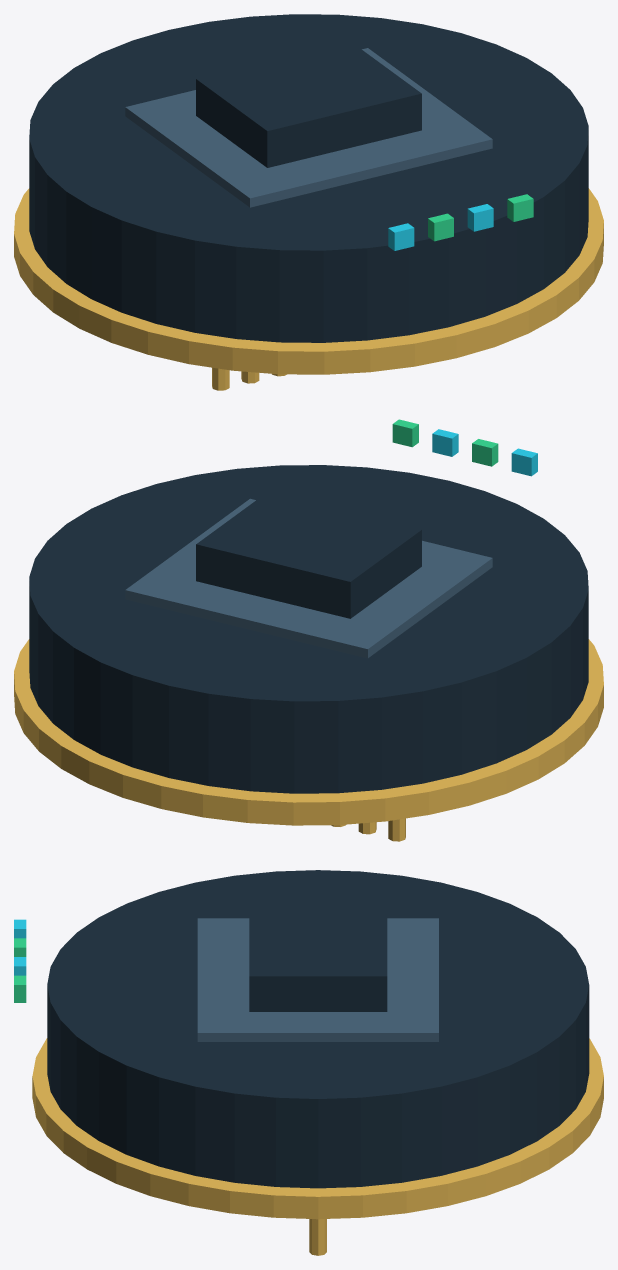
The model's file is 39_L79_ControlledContactInitiationHead.fbx.
The picture shows the model from 3 angles, top to bottom: view 1: azimuth 30°, elevation 25°; view 2: azimuth 150°, elevation 25°; view 3: azimuth 270°, elevation 25°; orthographic projection. The views are drawn at different scales.
Visible parts, largest first — view 1: ControlledContactInitiationHead, ControlledContactInitiationHead_Part_0022, ControlledContactInitiationHead_Part_0014; view 2: ControlledContactInitiationHead, ControlledContactInitiationHead_Part_0022, ControlledContactInitiationHead_Part_0014; view 3: ControlledContactInitiationHead, ControlledContactInitiationHead_Part_0014, ControlledContactInitiationHead_Part_0022, ControlledContactInitiationHead_Part_0021.
Part boxes in pixels (left/top/right/bottom): ControlledContactInitiationHead: left=14, top=14, right=603, bottom=374; ControlledContactInitiationHead_Part_0022: left=196, top=41, right=421, bottom=167; ControlledContactInitiationHead_Part_0014: left=125, top=48, right=492, bottom=207; ControlledContactInitiationHead: left=14, top=419, right=603, bottom=825; ControlledContactInitiationHead_Part_0022: left=196, top=492, right=421, bottom=618; ControlledContactInitiationHead_Part_0014: left=125, top=498, right=492, bottom=658; ControlledContactInitiationHead: left=14, top=870, right=603, bottom=1219; ControlledContactInitiationHead_Part_0014: left=197, top=918, right=438, bottom=1041; ControlledContactInitiationHead_Part_0022: left=249, top=903, right=387, bottom=1011; ControlledContactInitiationHead_Part_0021: left=309, top=1219, right=326, bottom=1255.
Bounding box in the file's own units: 116 × 60.5 × 120.
